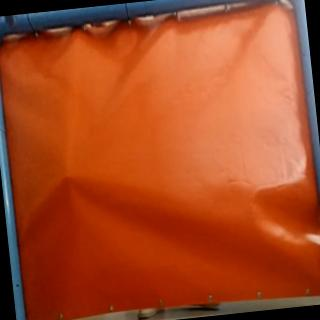Hit-hRxx: (61, 168, 74, 184)
